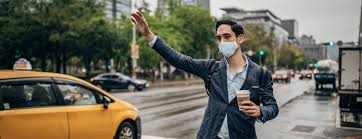masked: (212, 17, 246, 56)
